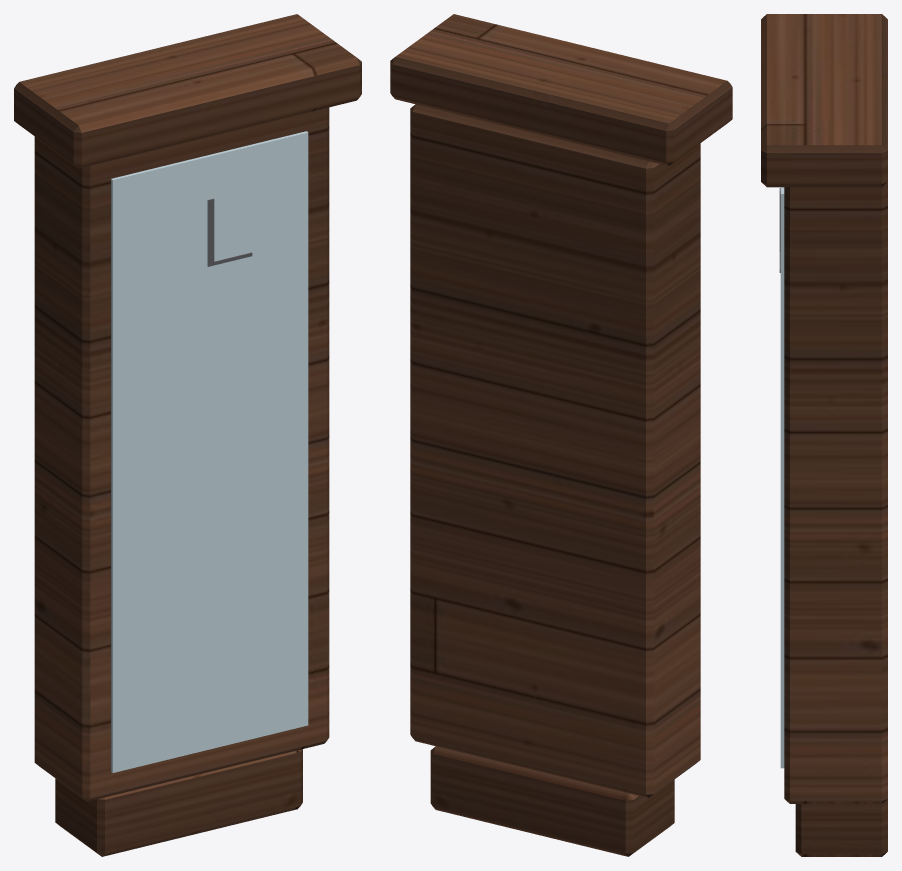
File: reg_clock.glb
The picture shows the model from 3 angles, left to right: view 1: azimuth 30°, elevation 25°; view 2: azimuth 150°, elevation 25°; view 3: azimuth 270°, elevation 25°; orthographic projection. The views are drawn at different scales.
Parts seen in each view (by area): view 1: reg_clock_glass, reg_clock_dkwood, reg_clock_dark; view 2: reg_clock_dkwood; view 3: reg_clock_dkwood, reg_clock_glass.
Boxes of the visible parts, <box> form: reg_clock_glass: <box>111,131,308,772</box>; reg_clock_dkwood: <box>14,14,361,856</box>; reg_clock_dark: <box>207,198,252,266</box>; reg_clock_dkwood: <box>390,14,732,856</box>; reg_clock_dkwood: <box>761,14,887,856</box>; reg_clock_glass: <box>780,187,784,768</box>.
Size of the model in its own units: 0.56 by 1.4 by 0.22.
5 materials, 1 textured.
